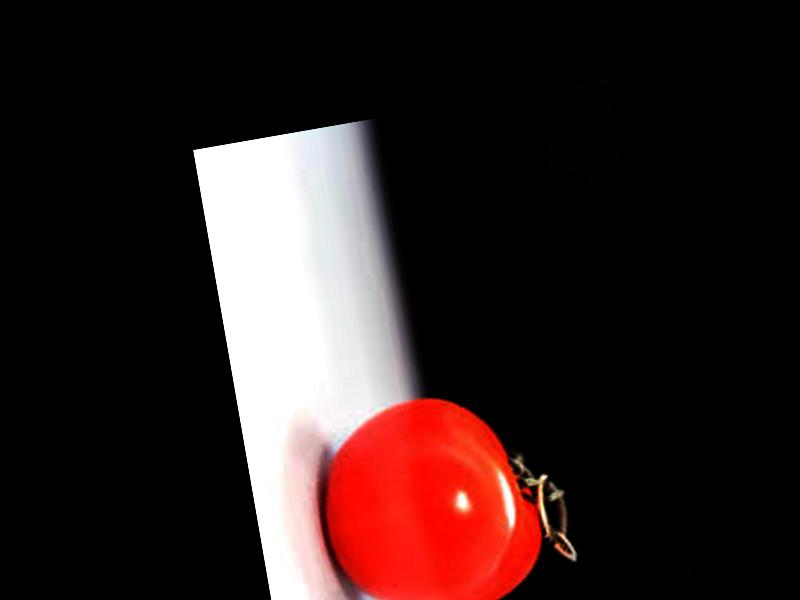Tomato: (306, 380, 554, 600)
